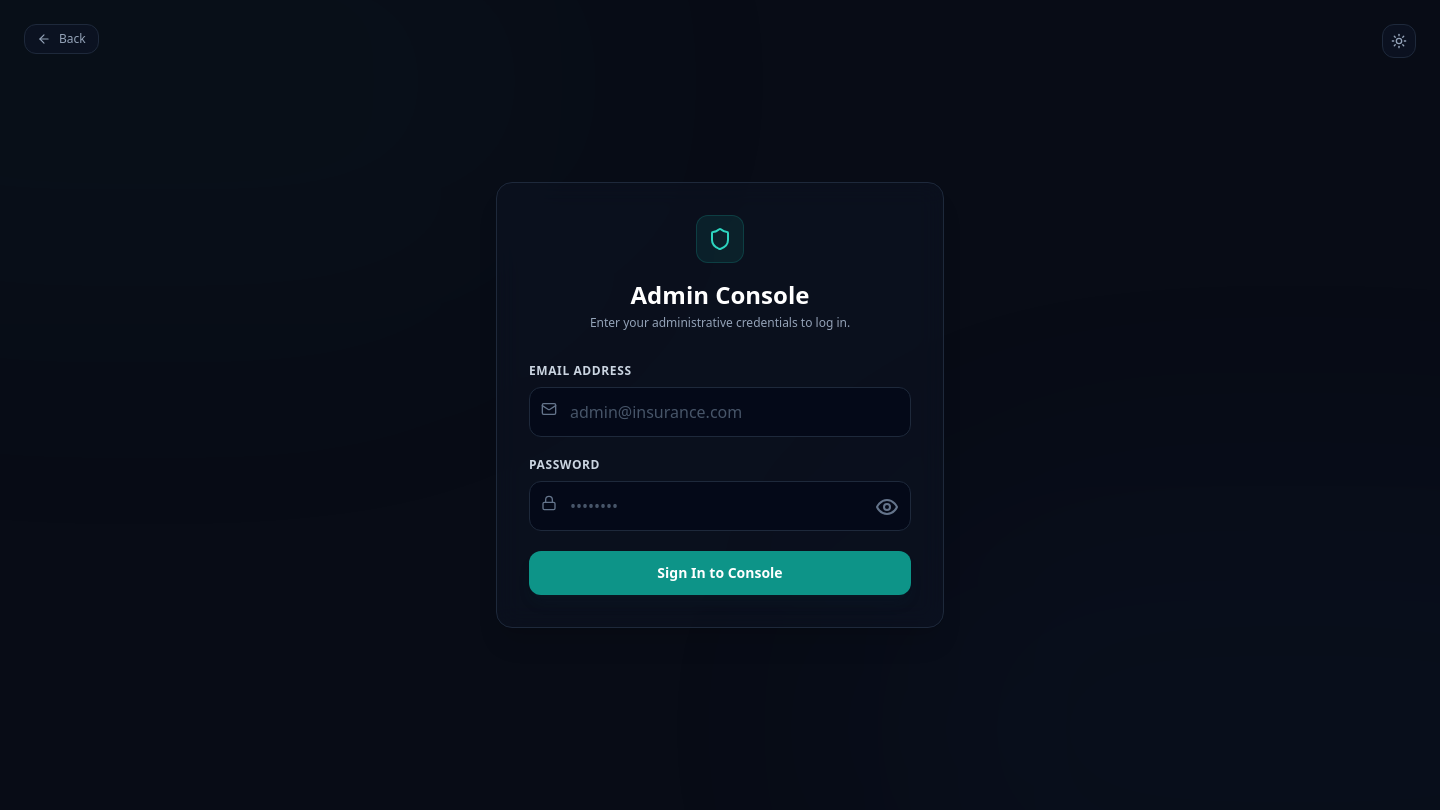
it: Admin Login Page › shows validation error messages when fields are empty
Click the button "Sign In to Console" at (720, 573), box [529,551,911,595]
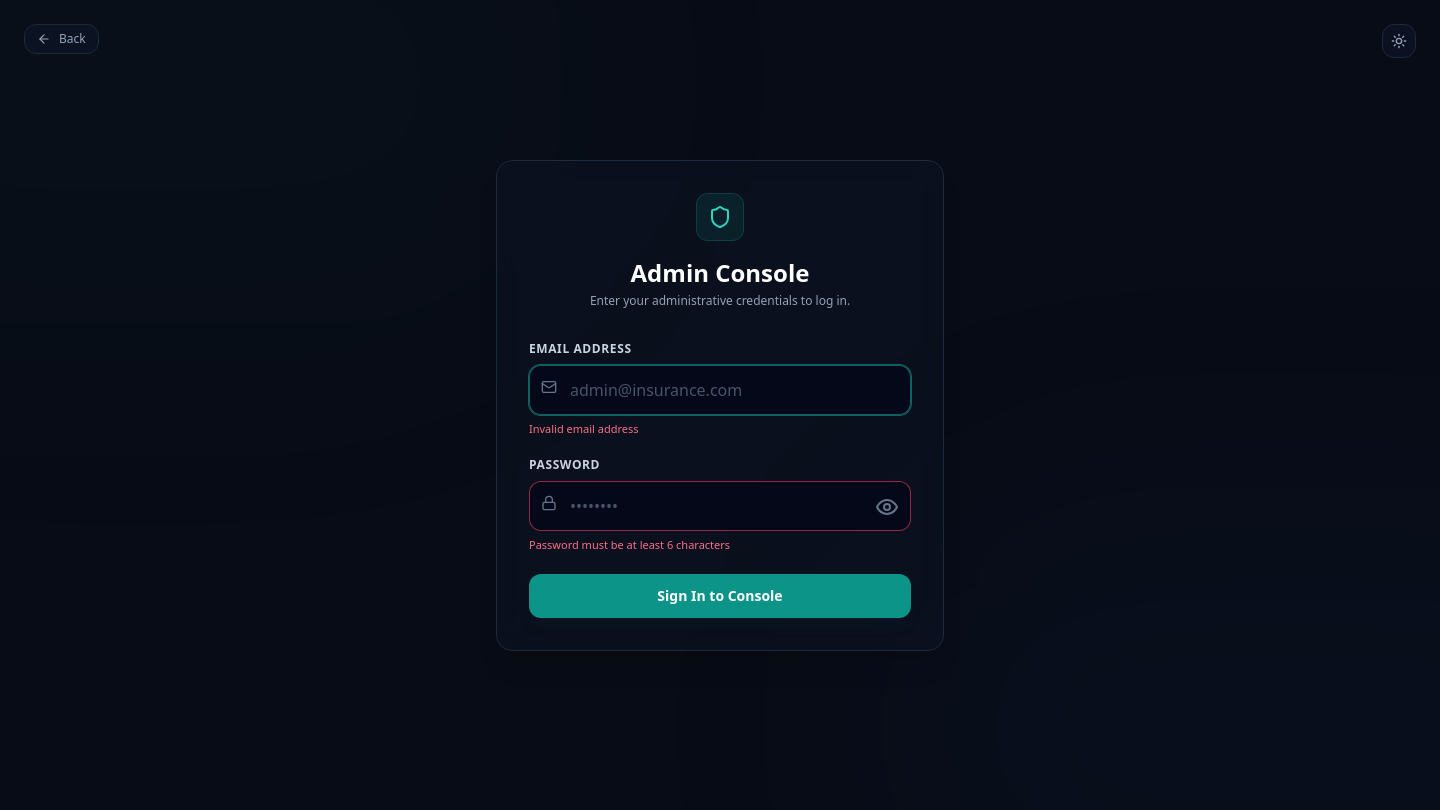
Expected: the text "Invalid email address" is shown, [529,420,639,436]
Expected: the text "Password must be at least 6 characters" is shown, [529,537,730,552]
